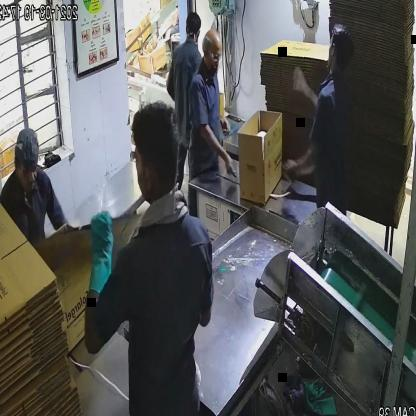glove: (82, 209, 118, 308)
no_glove: (190, 119, 244, 182), (275, 126, 320, 194), (288, 63, 324, 117)
